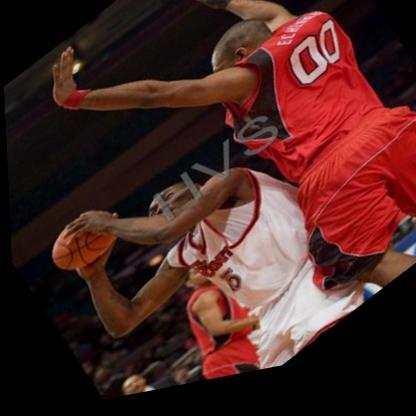basketball: (35, 196, 128, 289)
